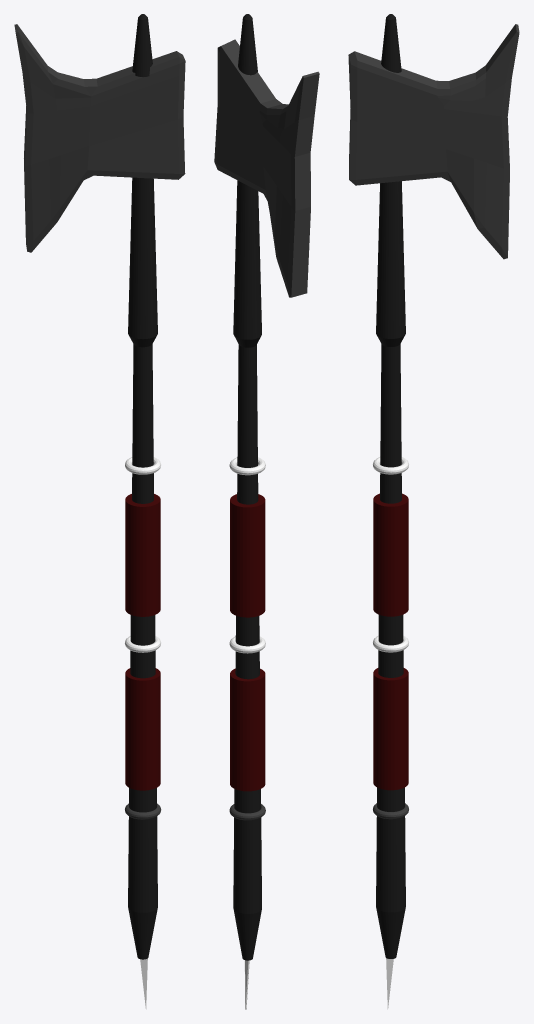
The model's file is Long axe.obj.
3 views of the same model, side by side, from view 1: azimuth 90°, elevation 25°; view 2: azimuth 210°, elevation 25°; view 3: azimuth 270°, elevation 25° (orthographic).
Visible parts, largest first — view 1: Cube.001, Cylinder, Cylinder.003, Cylinder.002, Cylinder.001, Cylinder.004; view 2: Cube.001, Cylinder, Cylinder.002, Cylinder.001, Cylinder.003, Cylinder.004, Torus.003, Torus.001, Torus; view 3: Cube.001, Cylinder, Cylinder.003, Cylinder.002, Cylinder.001, Cylinder.004.
Boxes of the visible parts, x1,y1,x2,y2 form: Cube.001: (14, 24, 185, 252); Cylinder: (128, 344, 157, 959); Cylinder.003: (128, 177, 157, 347); Cylinder.002: (125, 494, 160, 616); Cylinder.001: (125, 668, 160, 790); Cylinder.004: (132, 14, 152, 76); Cube.001: (214, 39, 319, 297); Cylinder: (233, 345, 261, 960); Cylinder.002: (230, 494, 265, 617); Cylinder.001: (230, 668, 265, 791); Cylinder.003: (233, 180, 261, 347); Cylinder.004: (238, 14, 257, 75); Torus.003: (229, 457, 265, 475); Torus.001: (229, 636, 265, 653); Torus: (229, 804, 265, 820); Cube.001: (348, 24, 519, 259); Cylinder: (376, 344, 405, 958); Cylinder.003: (376, 181, 405, 346); Cylinder.002: (373, 493, 408, 616); Cylinder.001: (373, 668, 408, 790); Cylinder.004: (381, 14, 401, 72).
Bounding box in the file's own units: 0.3815 × 11.5 × 1.79.
